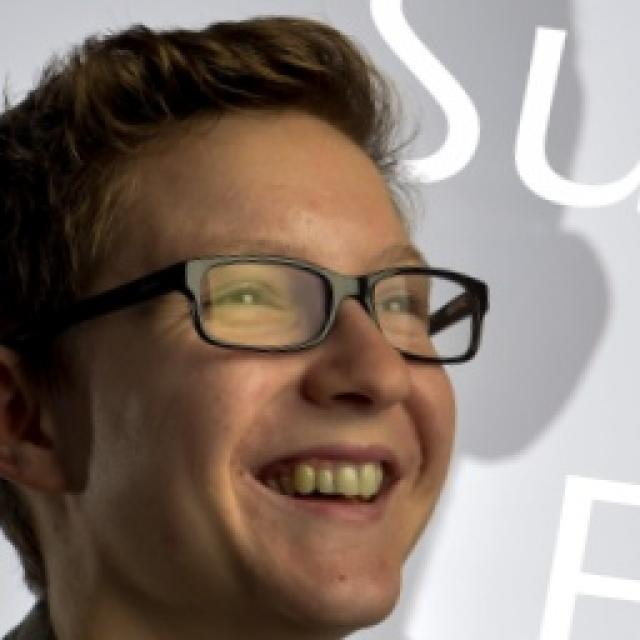glasses: (61, 249, 491, 369)
